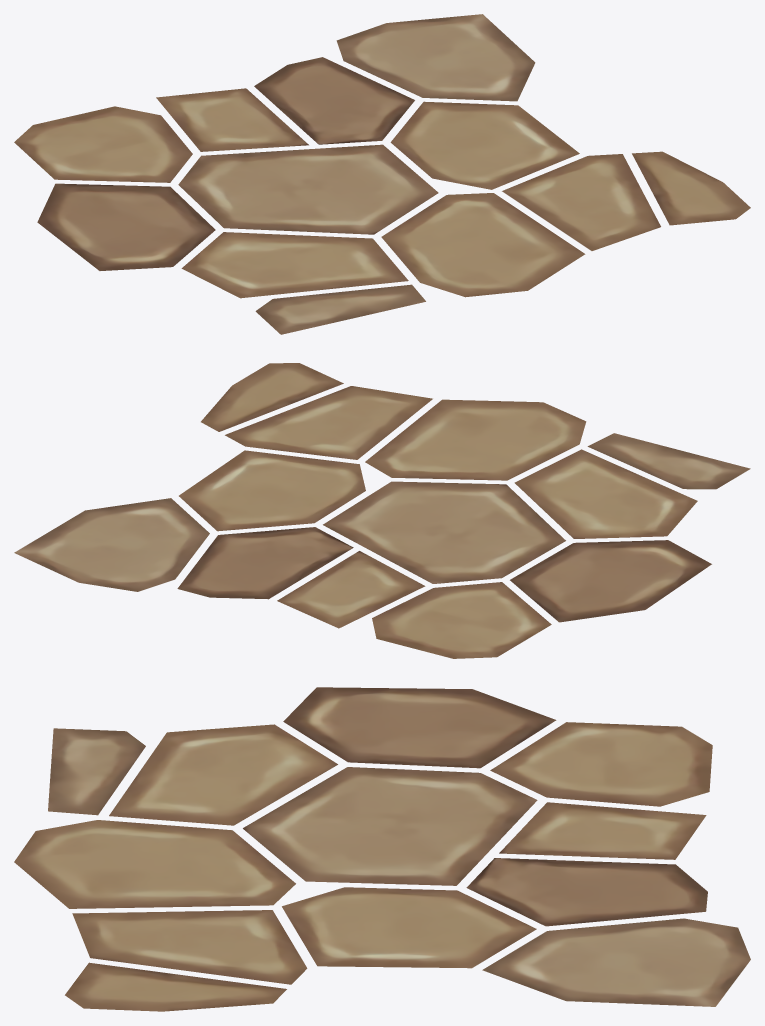
File: Stone Pavement_HD.fbx
The picture shows the model from 3 angles, top to bottom: view 1: azimuth 30°, elevation 25°; view 2: azimuth 150°, elevation 25°; view 3: azimuth 270°, elevation 25°; orthographic projection. The views are drawn at different scales.
Visible parts, largest first — view 1: It_101_StonePavement; view 2: It_101_StonePavement; view 3: It_101_StonePavement.
Part boxes in pixels (bbox=[...]): It_101_StonePavement: bbox=[14, 14, 750, 334]; It_101_StonePavement: bbox=[14, 363, 750, 658]; It_101_StonePavement: bbox=[14, 687, 750, 1011].
Bounding box in the file's own units: 1.14 × 1.79e-07 × 1.1.
